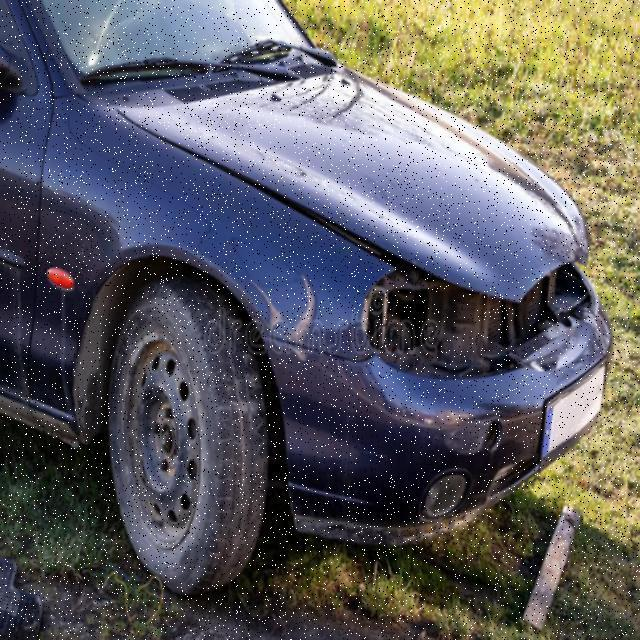fender-dent: (39, 149, 328, 430)
